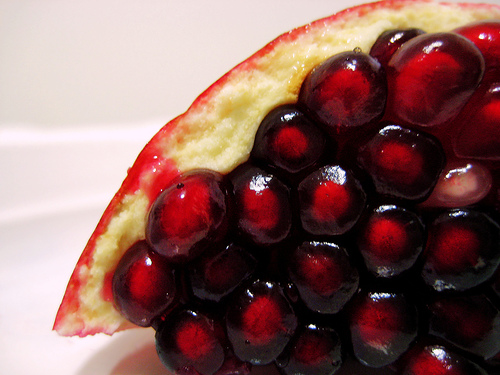pomogranate: (52, 0, 499, 374), (388, 30, 486, 130)
